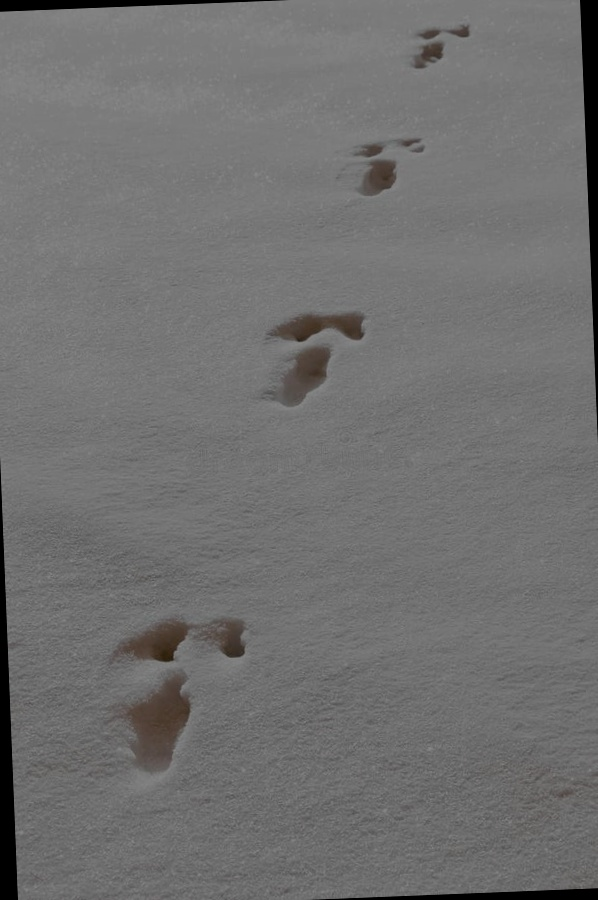lapin: (83, 590, 275, 811), (253, 289, 379, 433), (338, 117, 435, 209), (394, 6, 482, 77)
